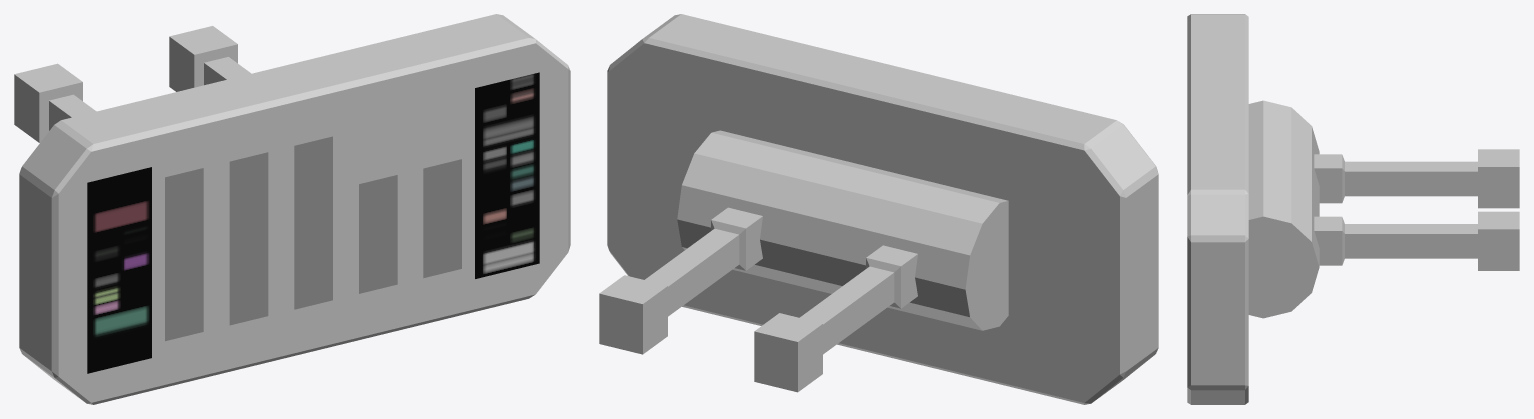
Rendered from light_08.fbx.
3 views of the same model, side by side, from view 1: azimuth 30°, elevation 25°; view 2: azimuth 150°, elevation 25°; view 3: azimuth 270°, elevation 25° (orthographic). The views are drawn at different scales.
Parts seen in each view (by area): view 1: Cube.440, Cube.441, Cube.439; view 2: Cube.440, Cube.439; view 3: Cube.439, Cube.440.
Boxes of the visible parts, x1=… form: Cube.440: x1=19, y1=14, x2=570, y2=404; Cube.441: x1=87, y1=72, x2=539, y2=373; Cube.439: x1=14, y1=26, x2=251, y2=142; Cube.440: x1=607, y1=14, x2=1158, y2=404; Cube.439: x1=599, y1=130, x2=1008, y2=392; Cube.439: x1=1248, y1=100, x2=1519, y2=318; Cube.440: x1=1187, y1=14, x2=1248, y2=404.
Size of the model in its own units: 1.02 by 0.4919 by 0.6887.
